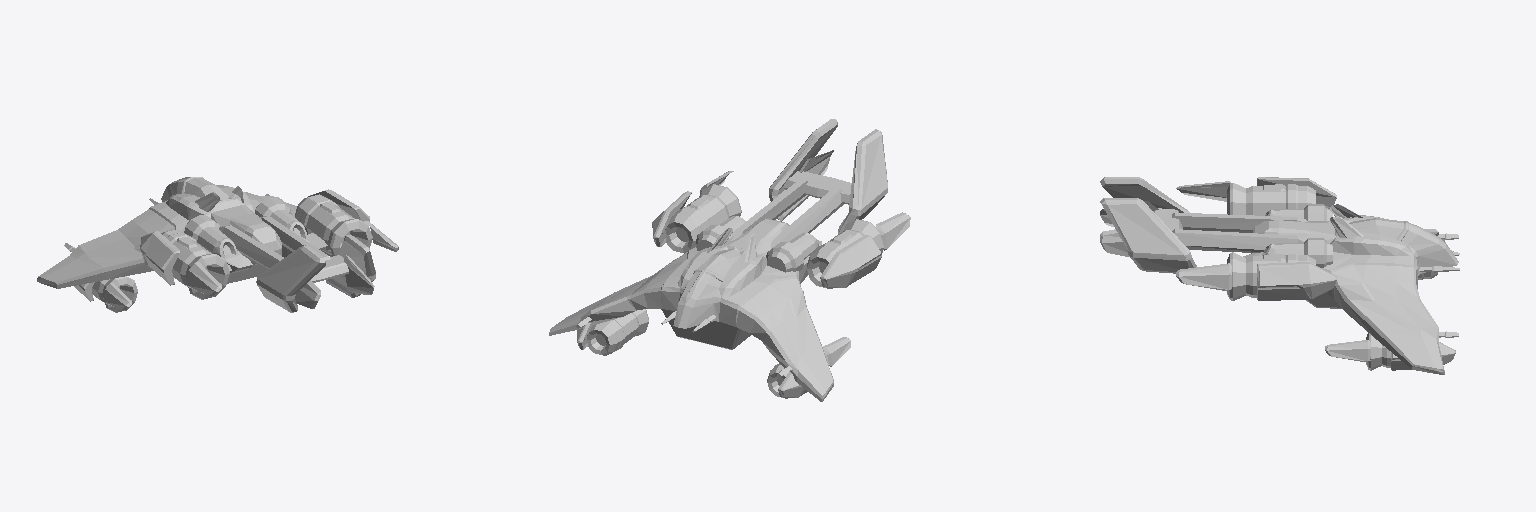
Rendered from specialops.obj.
3 renders of one model, left to right at view 1: azimuth 30°, elevation 25°; view 2: azimuth 150°, elevation 25°; view 3: azimuth 270°, elevation 25°, orthographic.
Parts seen in each view (by area): view 1: Geoset_0; view 2: Geoset_0; view 3: Geoset_0.
Part boxes in pixels (x1,y1,x2,y2): Geoset_0: (37, 177, 398, 312); Geoset_0: (549, 119, 910, 401); Geoset_0: (1100, 177, 1459, 374).
Size of the model in its own units: 2.75 by 1.31 by 3.14.